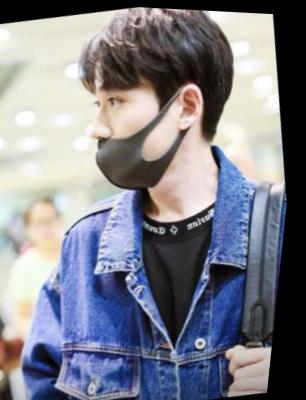WRONG: (78, 61, 185, 197)
